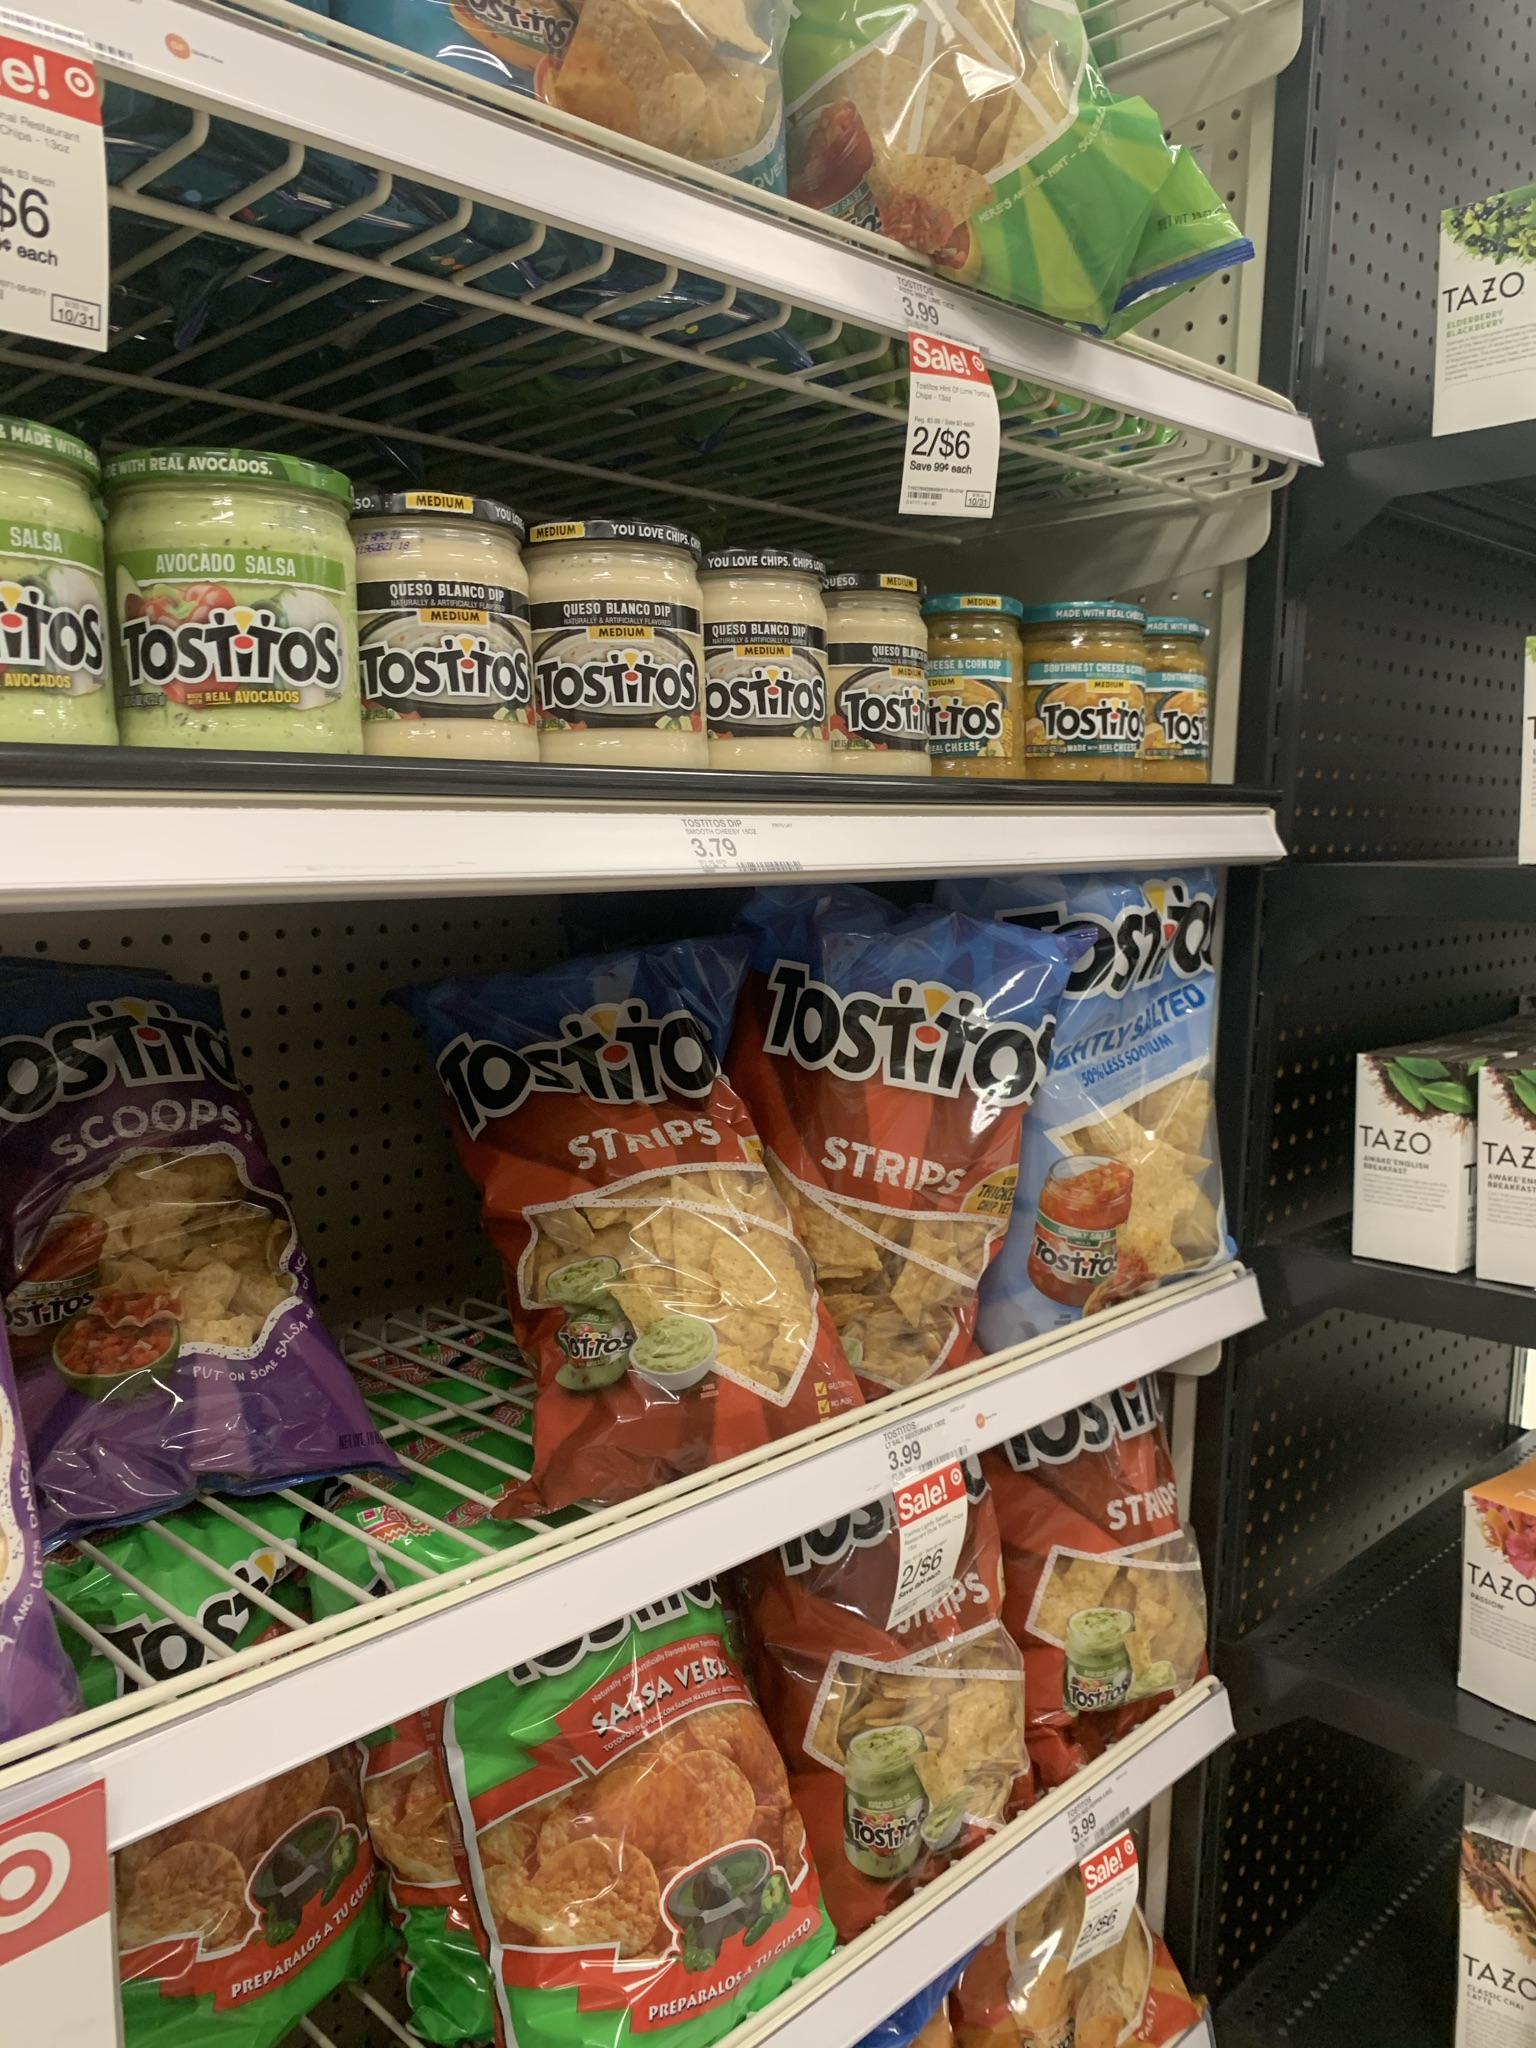tostitos chips: (15, 1001, 384, 1476), (453, 1011, 858, 1405), (449, 1675, 849, 1956), (1016, 889, 1213, 1274), (812, 930, 978, 1343), (799, 1526, 1039, 1796), (1007, 1438, 1220, 1675)
